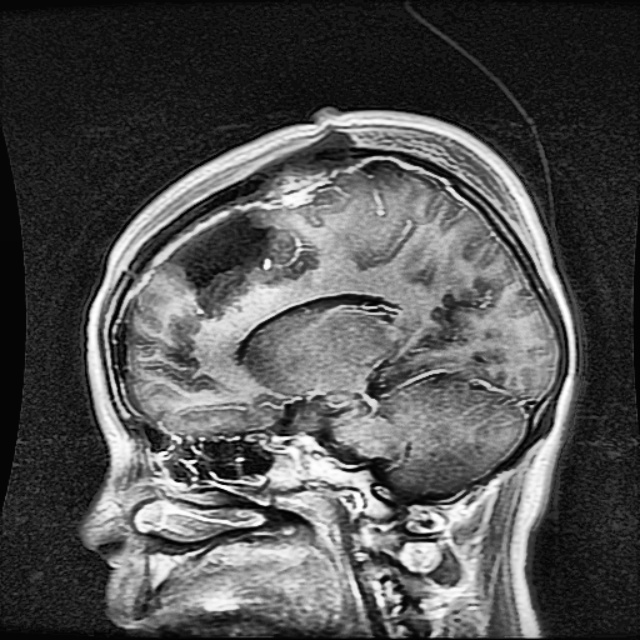Meningioma: (163, 213, 315, 320)
